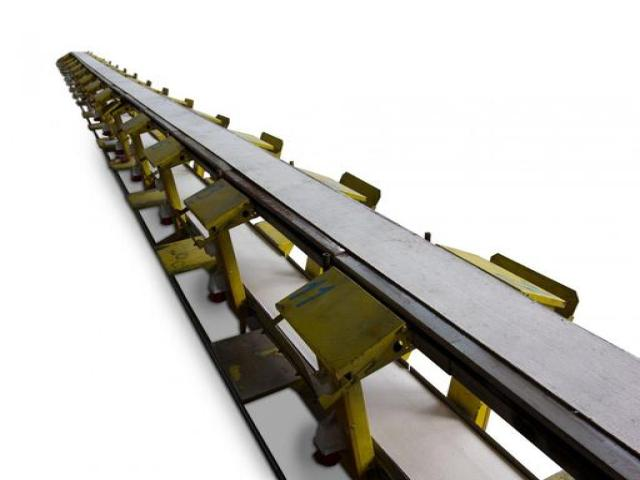conveyor: (52, 49, 638, 479)
